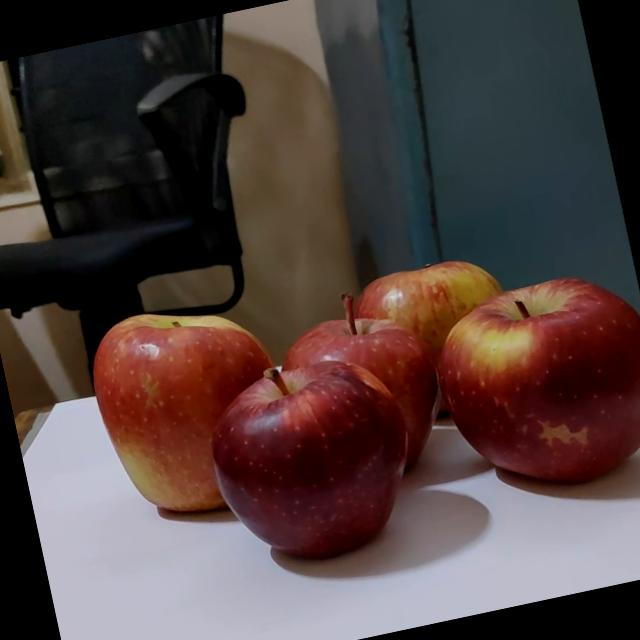apple: (175, 328, 424, 573), (409, 248, 640, 506), (81, 273, 312, 519), (266, 259, 464, 489), (352, 239, 548, 422)
